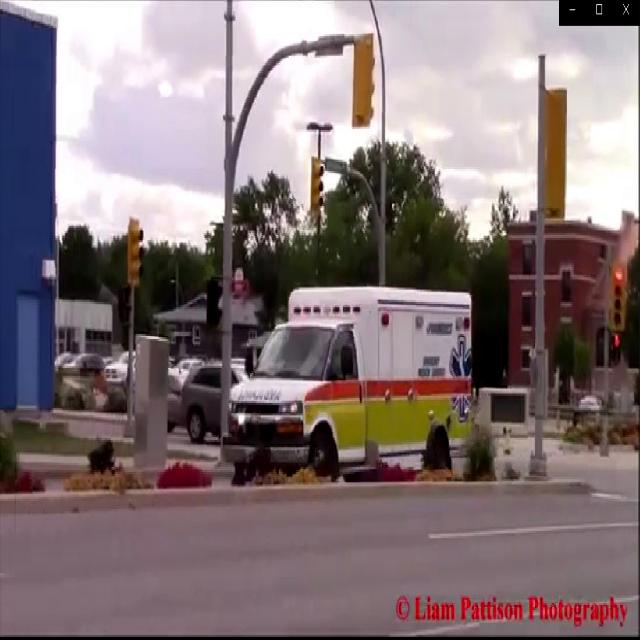emergency: (222, 287, 474, 473)
